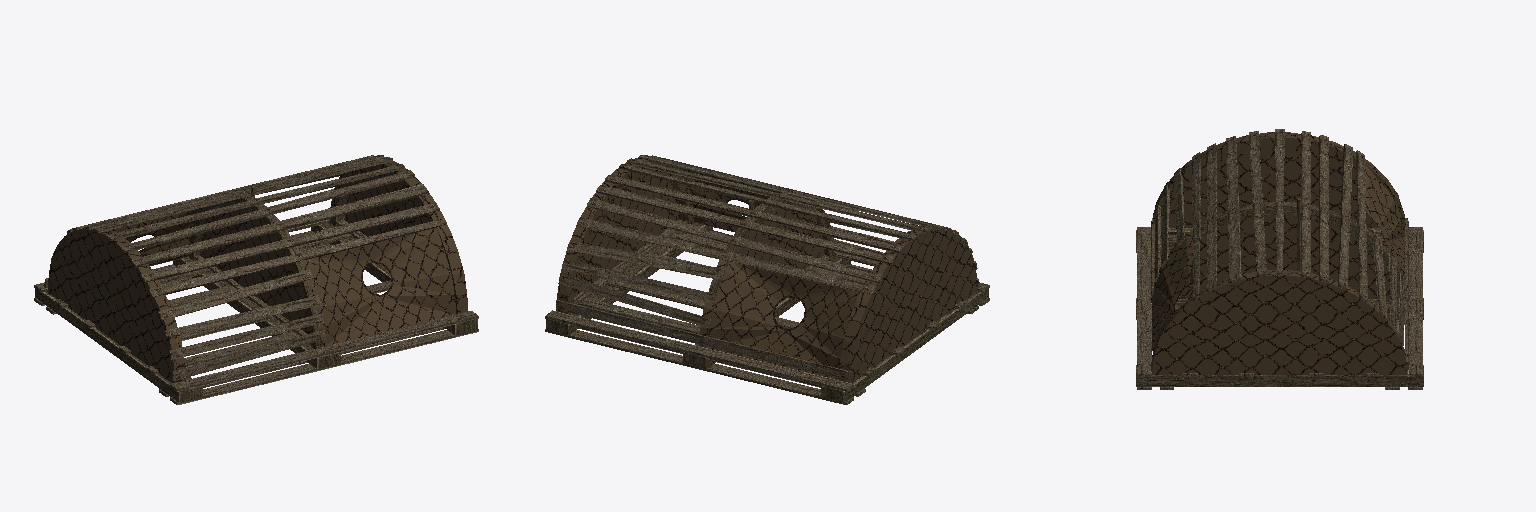
3 views of the same model, side by side, from view 1: azimuth 30°, elevation 25°; view 2: azimuth 150°, elevation 25°; view 3: azimuth 270°, elevation 25° (orthographic).
Parts seen in each view (by area): view 1: lobser_trap_a; view 2: lobser_trap_a; view 3: lobser_trap_a.
Part boxes in pixels (x1,y1,x2,y2): lobser_trap_a: (34,155,478,404); lobser_trap_a: (545,155,989,404); lobser_trap_a: (1136,129,1423,389).
Size of the model in its own units: 47.8 by 18.28 by 39.37.
Materials: 2 (2 with a texture image).